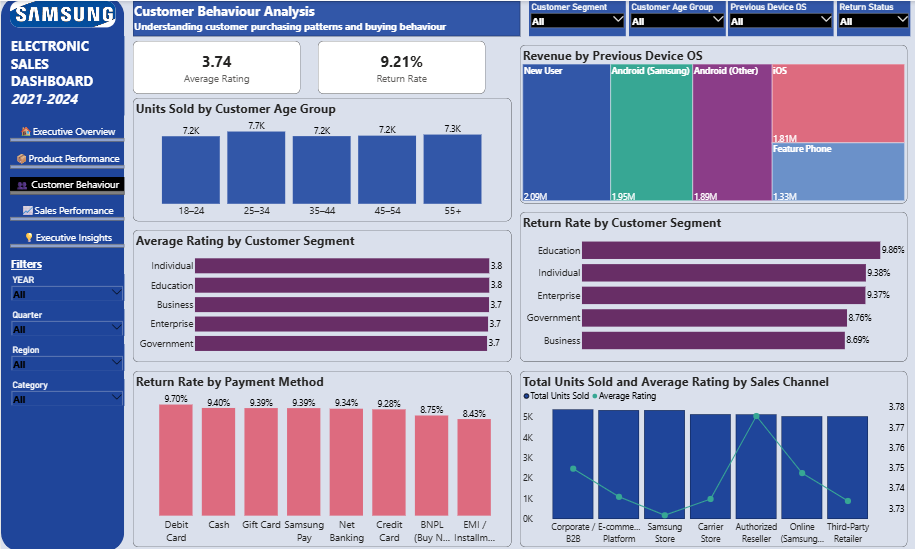

The page's visual inventory and layout, read from the dashboard file:
{"tool":"powerbi","page":{"name":"👥 Customer Behaviour","canvas":[5000,3000],"ordinal":2},"visuals":[{"type":"card","fields":{"Values":["My Measures.Return Rate"]},"box":[1728,216,912,288],"z":0},{"type":"card","fields":{"Values":["My Measures.Average Rating"]},"box":[720,216,912,288],"z":1000},{"type":"textbox","box":[720,0,2112,192],"z":2000},{"type":"treemap","title":"Revenue by Previous Device OS","fields":{"Group":["SALES.Previous_Device_OS"],"Values":["My Measures.Total Revenue"]},"box":[2832,240,2112,864],"z":3000},{"type":"clusteredColumnChart","title":"Units Sold by Customer Age Group","fields":{"Y":["My Measures.Total Units Sold"],"Category":["SALES.Customer_Age_Group"]},"box":[720,528,2064,672],"z":4000},{"type":"clusteredBarChart","title":"Average Rating by Customer Segment","fields":{"Category":["SALES.Customer_Segment"],"Y":["My Measures.Average Rating"]},"box":[720,1248,2064,720],"z":5000},{"type":"clusteredBarChart","title":"Return Rate by Customer Segment","fields":{"Category":["SALES.Customer_Segment"],"Y":["My Measures.Return Rate"]},"box":[2832,1152,2112,816],"z":6000},{"type":"lineClusteredColumnComboChart","title":"Total Units Sold and Average Rating by Sales Channel","fields":{"Category":["SALES.Sales_Channel"],"Y":["My Measures.Total Units Sold"],"Y2":["My Measures.Average Rating"]},"box":[2832,2016,2112,960],"z":7000},{"type":"shape","box":[0,-24,672,3024],"z":8000},{"type":"clusteredColumnChart","title":"Return Rate by Payment Method","fields":{"Category":["SALES.Payment_Method"],"Y":["My Measures.Return Rate"]},"box":[720,2016,2064,960],"z":9000},{"type":"textbox","box":[48,192,624,432],"z":10000},{"type":"actionButton","title":"🏠Executive Overview","box":[48,672,624,96],"z":11000},{"type":"actionButton","title":"📦Product Performance","box":[48,816,624,96],"z":12000},{"type":"actionButton","title":"👥 Customer Behaviour","box":[48,960,624,96],"z":13000},{"type":"actionButton","title":"📈Sales Performance","box":[48,1104,624,96],"z":14000},{"type":"actionButton","title":"💡Executive Insights","box":[48,1248,624,96],"z":15000},{"type":"image","box":[48,0,576,144],"z":16000},{"type":"slicer","fields":{"Values":["Calender.YEAR"]},"box":[48,1488,624,144],"z":17000},{"type":"slicer","fields":{"Values":["Calender.Quarter"]},"box":[48,1680,624,144],"z":18000},{"type":"slicer","fields":{"Values":["SALES.Category"]},"box":[48,2064,624,144],"z":19000},{"type":"slicer","fields":{"Values":["SALES.Region"]},"box":[48,1872,624,144],"z":20000},{"type":"textbox","box":[48,1392,432,96],"z":21000},{"type":"slicer","fields":{"Values":["SALES.Customer_Segment"]},"box":[2880,0,528,192],"z":22000},{"type":"slicer","fields":{"Values":["SALES.Customer_Age_Group"]},"box":[3424,0,528,192],"z":23000},{"type":"slicer","fields":{"Values":["SALES.Previous_Device_OS"]},"box":[3968,0,576,192],"z":24000},{"type":"slicer","fields":{"Values":["SALES.Return_Status"]},"box":[4560,0,400,192],"z":25000}]}

Visuals, with their boxes on the page's 5000x3000 design canvas (x1, y1, x2, y2). These are canvas units, not pixel positions in the 915x549 screenshot, which may show the page scaled, cropped or inside an application window:
card - My Measures.Return Rate: <region>1728, 216, 2640, 504</region>
card - My Measures.Average Rating: <region>720, 216, 1632, 504</region>
textbox: <region>720, 0, 2832, 192</region>
"Revenue by Previous Device OS" treemap: <region>2832, 240, 4944, 1104</region>
"Units Sold by Customer Age Group" clusteredColumnChart: <region>720, 528, 2784, 1200</region>
"Average Rating by Customer Segment" clusteredBarChart: <region>720, 1248, 2784, 1968</region>
"Return Rate by Customer Segment" clusteredBarChart: <region>2832, 1152, 4944, 1968</region>
"Total Units Sold and Average Rating by Sales Channel" lineClusteredColumnComboChart: <region>2832, 2016, 4944, 2976</region>
shape: <region>0, -24, 672, 3000</region>
"Return Rate by Payment Method" clusteredColumnChart: <region>720, 2016, 2784, 2976</region>
textbox: <region>48, 192, 672, 624</region>
"🏠Executive Overview" actionButton: <region>48, 672, 672, 768</region>
"📦Product Performance" actionButton: <region>48, 816, 672, 912</region>
"👥 Customer Behaviour" actionButton: <region>48, 960, 672, 1056</region>
"📈Sales Performance" actionButton: <region>48, 1104, 672, 1200</region>
"💡Executive Insights" actionButton: <region>48, 1248, 672, 1344</region>
image: <region>48, 0, 624, 144</region>
slicer - Calender.YEAR: <region>48, 1488, 672, 1632</region>
slicer - Calender.Quarter: <region>48, 1680, 672, 1824</region>
slicer - SALES.Category: <region>48, 2064, 672, 2208</region>
slicer - SALES.Region: <region>48, 1872, 672, 2016</region>
textbox: <region>48, 1392, 480, 1488</region>
slicer - SALES.Customer_Segment: <region>2880, 0, 3408, 192</region>
slicer - SALES.Customer_Age_Group: <region>3424, 0, 3952, 192</region>
slicer - SALES.Previous_Device_OS: <region>3968, 0, 4544, 192</region>
slicer - SALES.Return_Status: <region>4560, 0, 4960, 192</region>
